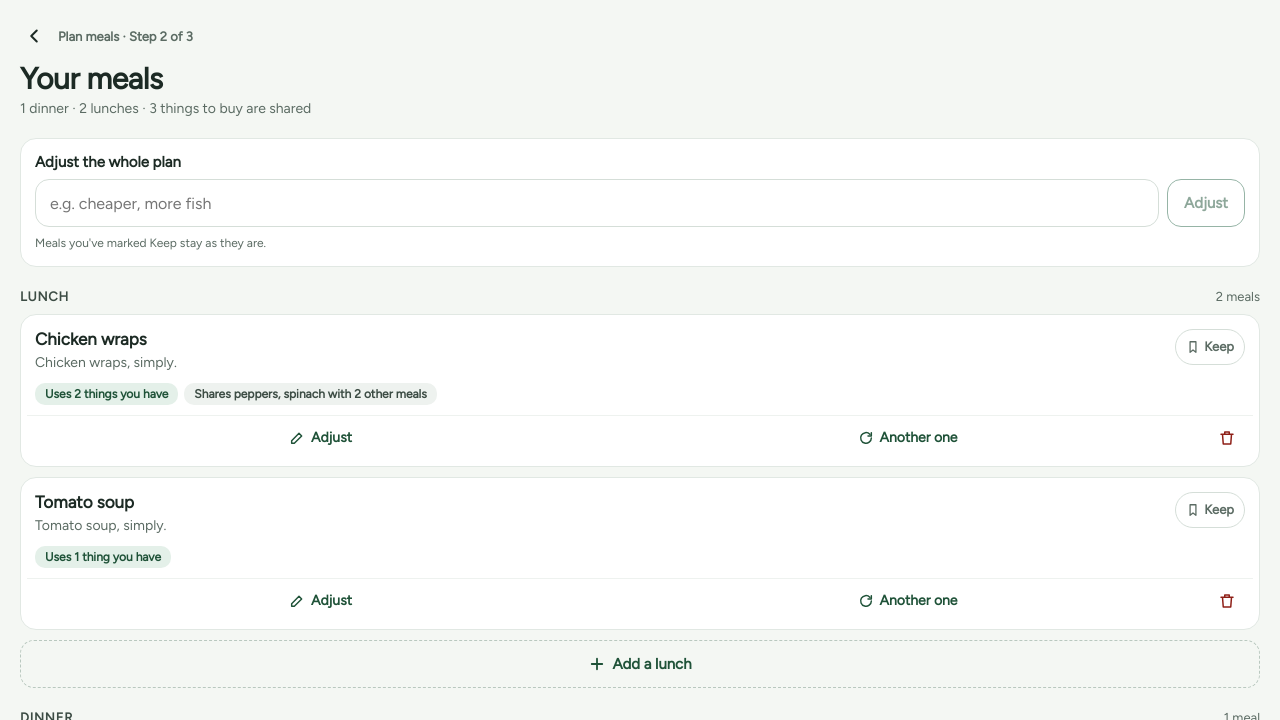
Scenario: Plan meals: the plan › Delete removes a meal with a toast and Undo puts it back
The width and height of the screenshot is (1280, 720).
Click the button named "Delete Tomato soup". click: (1227, 601)
box: [1201,579,1253,623]
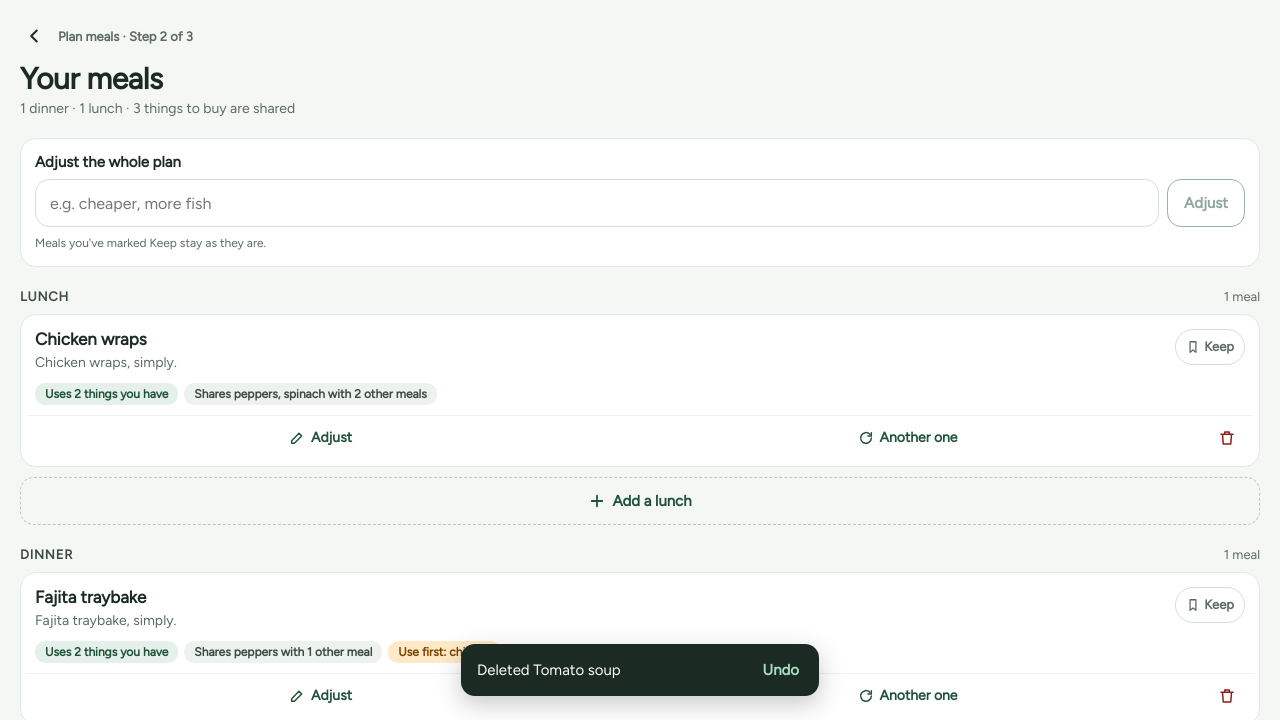
Expected: the message shows "Deleted Tomato soup", [477,661,621,679]
Click the button "Undo". click: (781, 670)
box: [748,648,813,692]
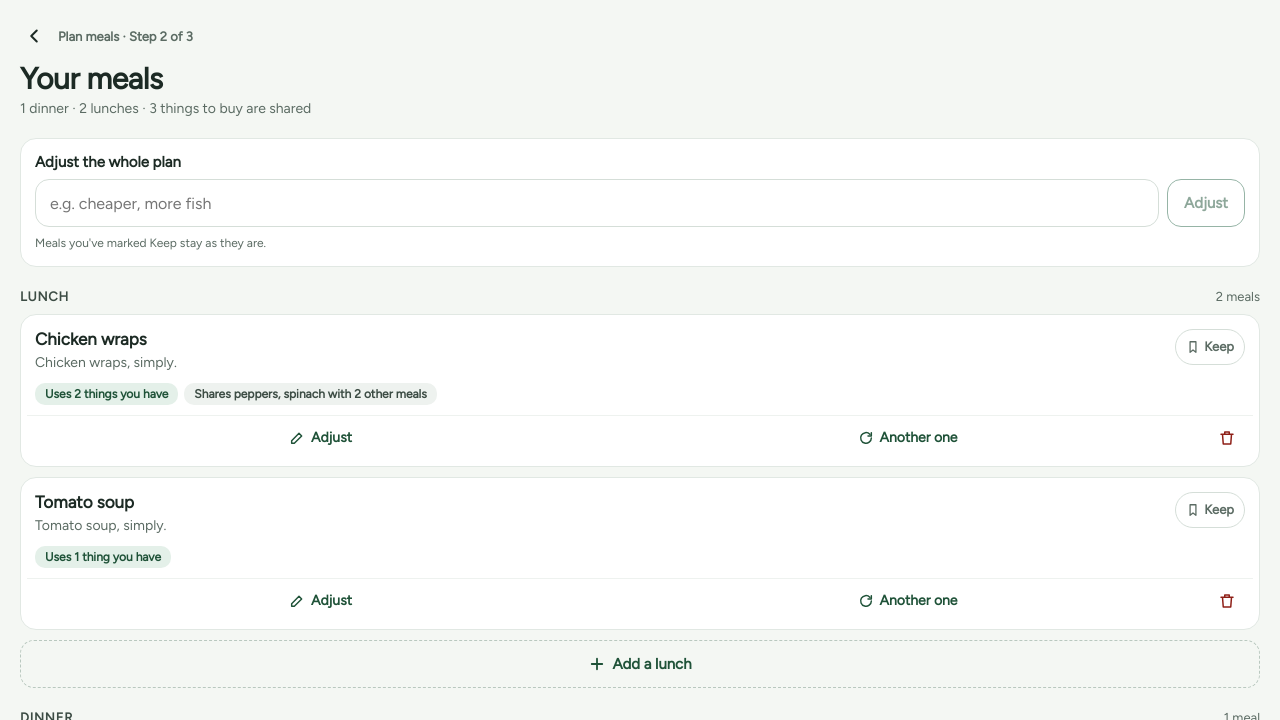
Expected: the text "Deleted Tomato soup" is gone
